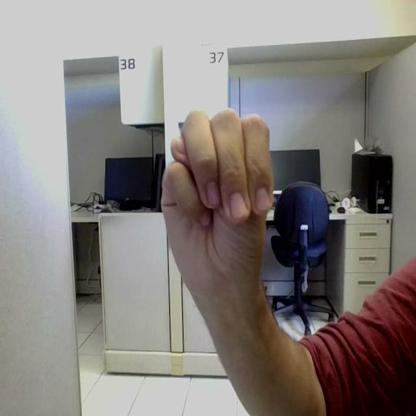M: (162, 108, 274, 285)
